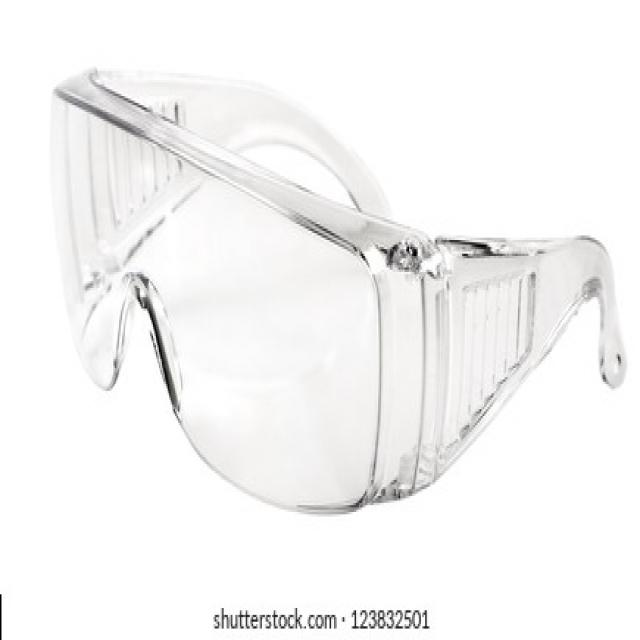Protective Glasses: (42, 50, 630, 528)
